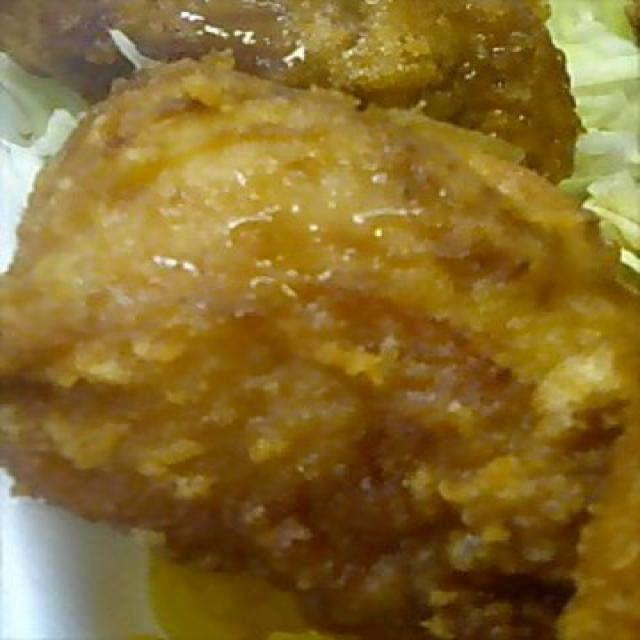鸡肉料理 含炸鸡: (2, 32, 636, 636)
